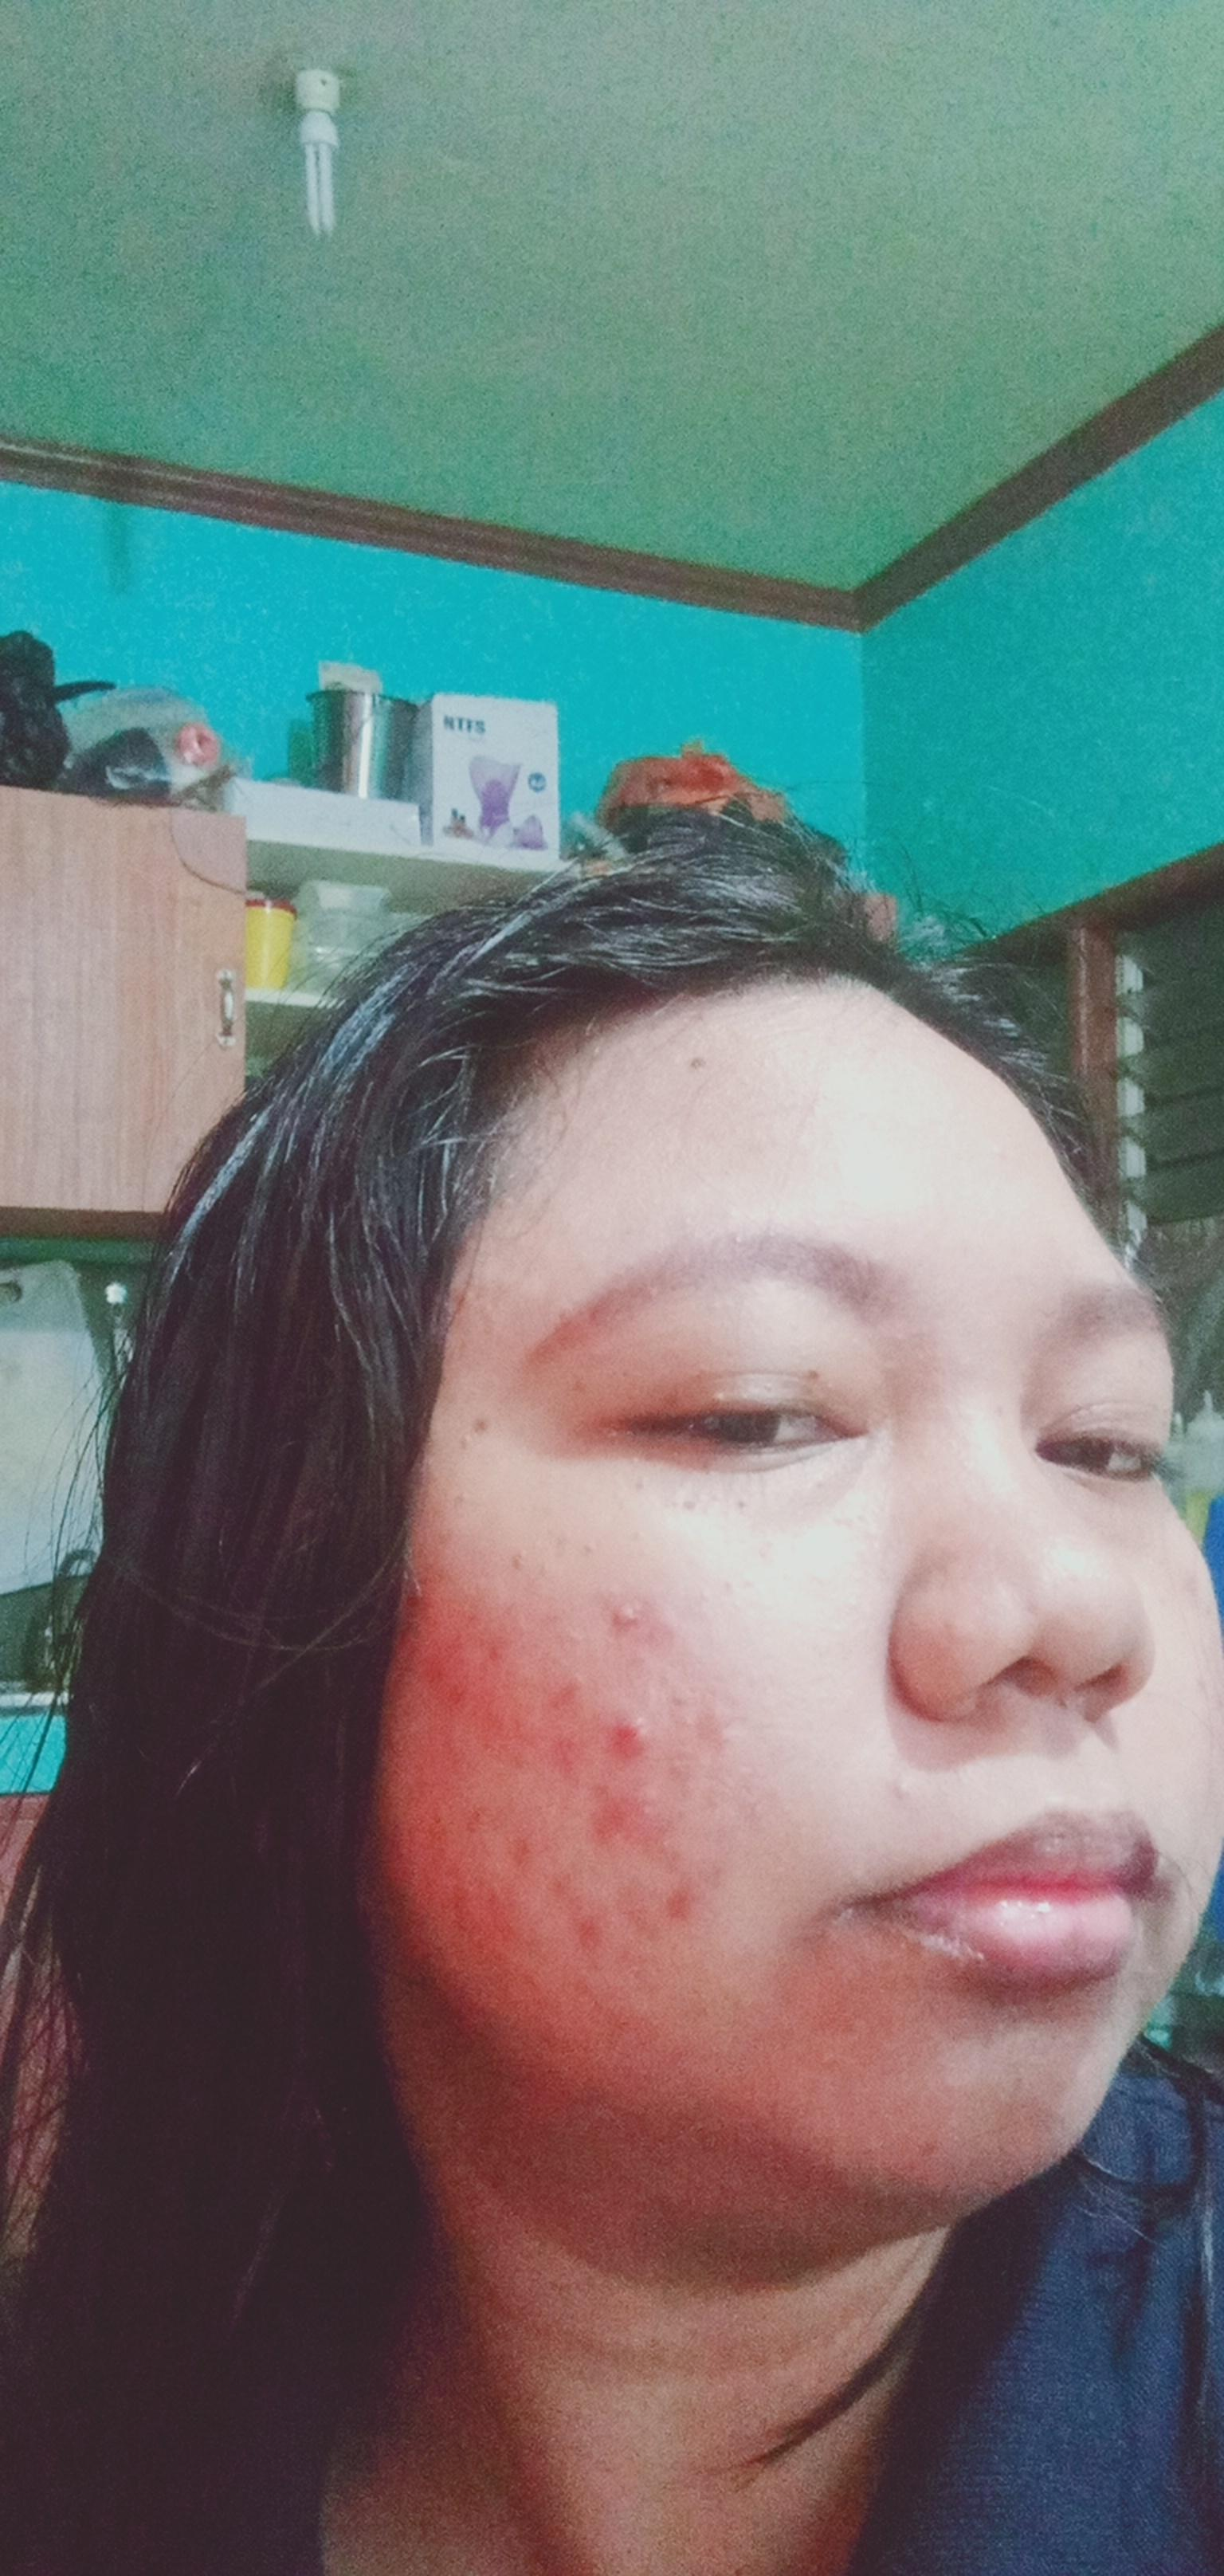Acne: (526, 1677, 611, 1782), (434, 1874, 526, 1968), (583, 1773, 670, 1853), (610, 1682, 669, 1758), (560, 1904, 624, 1965), (458, 1635, 511, 1707), (702, 1697, 756, 1758), (414, 1635, 465, 1695), (654, 1876, 706, 1934), (458, 1805, 504, 1865), (874, 1761, 923, 1814), (496, 1548, 550, 1592), (541, 1866, 588, 1914), (909, 2124, 959, 2169), (409, 1807, 450, 1858), (596, 1592, 651, 1625), (501, 1830, 529, 1868)
